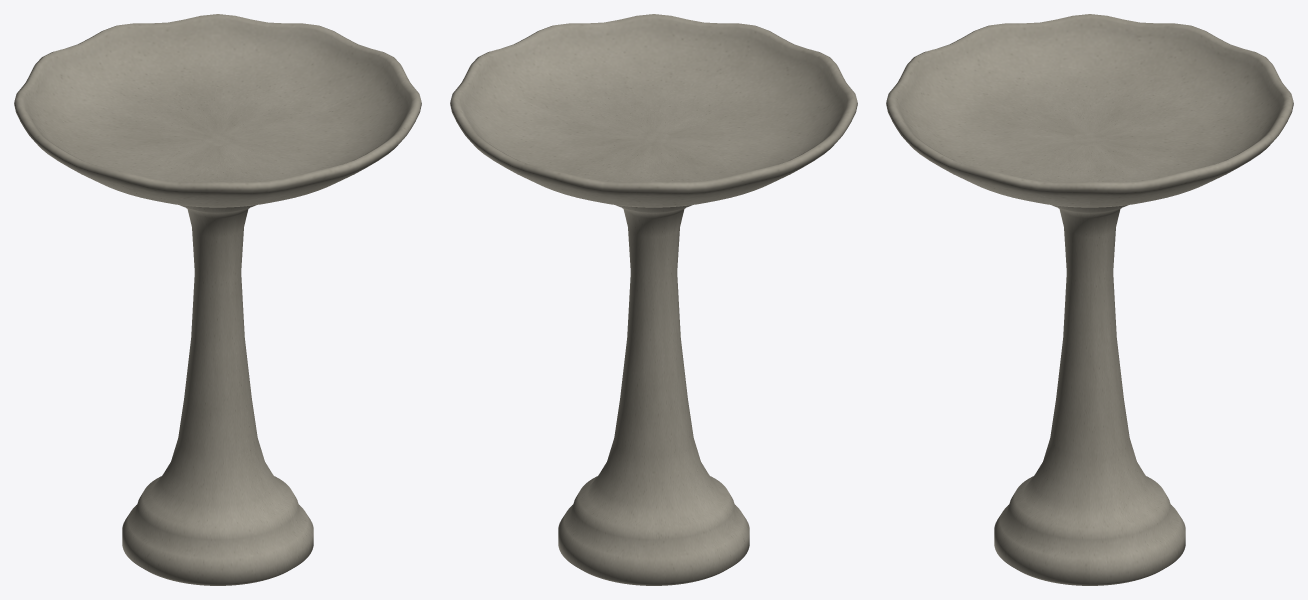
Rendered from pedestal_birdbath_LOD0.glb.
3 views of the same model, side by side, from view 1: azimuth 30°, elevation 25°; view 2: azimuth 150°, elevation 25°; view 3: azimuth 270°, elevation 25° (orthographic).
Parts seen in each view (by area): view 1: Monolithic_birdbath; view 2: Monolithic_birdbath; view 3: Monolithic_birdbath.
Part boxes in pixels (left/top/right/bottom): Monolithic_birdbath: left=14, top=14, right=421, bottom=585; Monolithic_birdbath: left=450, top=14, right=857, bottom=585; Monolithic_birdbath: left=886, top=14, right=1293, bottom=585.
Bounding box in the file's own units: 0.562 × 0.685 × 0.562.
1 material, 1 textured.
